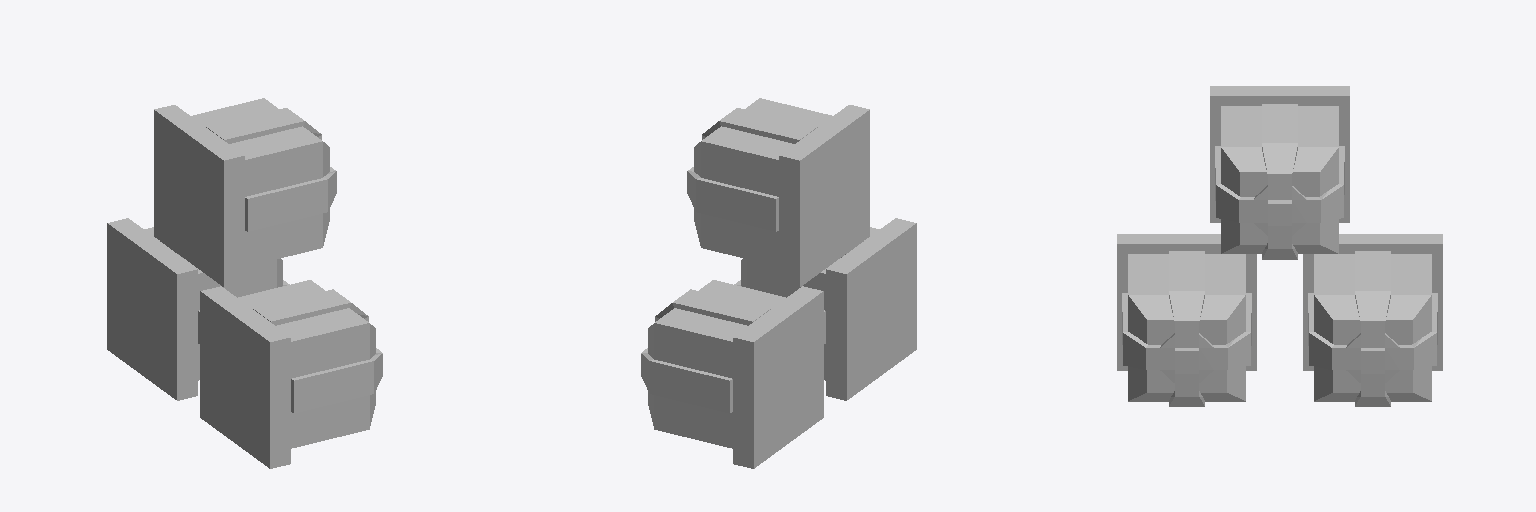
Rendered from TripleWallLights.obj.
The picture shows the model from 3 angles: view 1: azimuth 30°, elevation 25°; view 2: azimuth 150°, elevation 25°; view 3: azimuth 270°, elevation 25°; orthographic projection.
Visible parts, largest first — view 1: Circle.002, Circle.000; view 2: Circle.002, Circle.000; view 3: Circle.002, Circle.000.
Boxes of the visible parts, <box> form: Circle.002: <box>107,105,382,468</box>; Circle.000: <box>144,98,375,448</box>; Circle.002: <box>641,105,916,468</box>; Circle.000: <box>648,98,879,448</box>; Circle.002: <box>1117,86,1442,406</box>; Circle.000: <box>1128,106,1431,401</box>.
Bounding box in the file's own units: 0.4167 × 0.8143 × 0.8765.